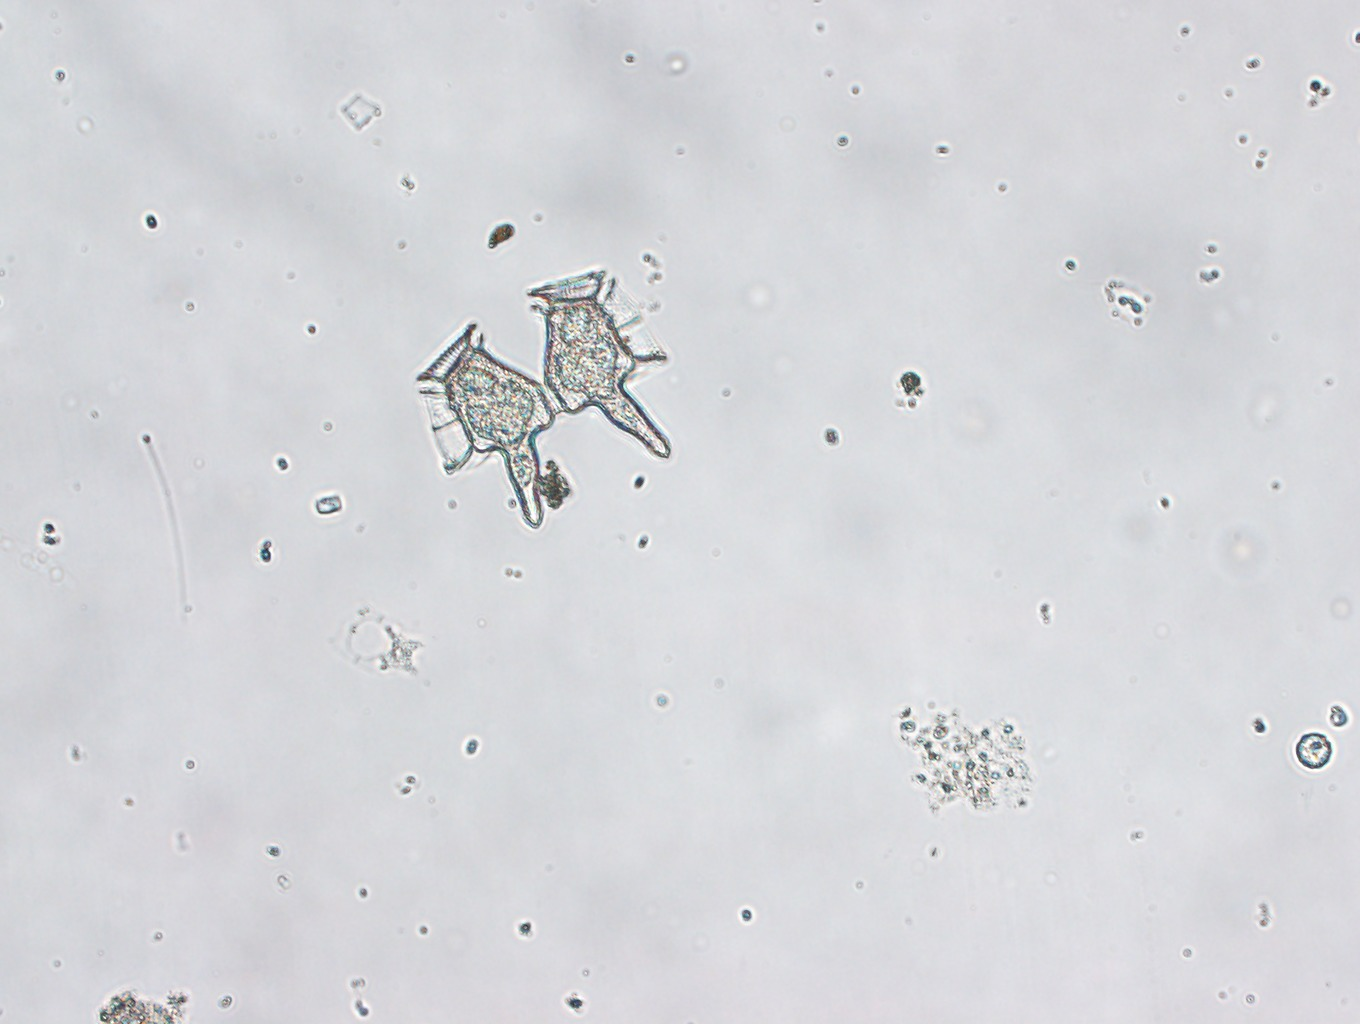dinophysis caudata: (416, 270, 672, 530)
